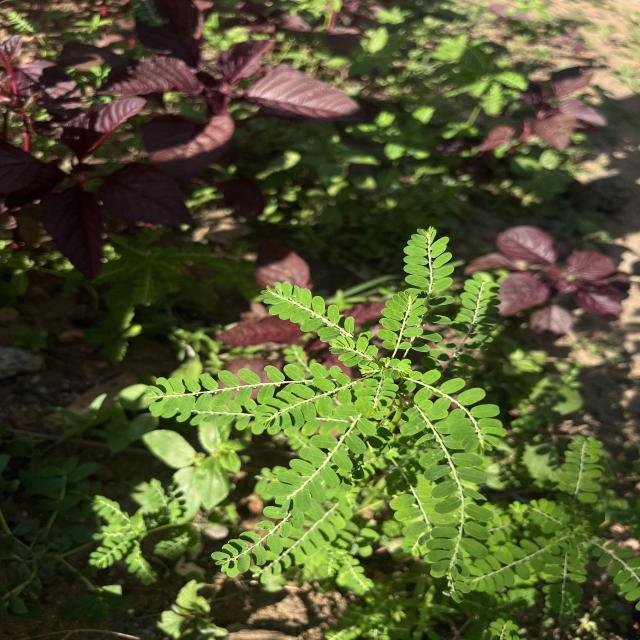Phyllanthus niruri: (144, 362, 326, 418), (421, 448, 496, 582), (403, 367, 508, 454), (266, 434, 368, 516), (252, 372, 350, 432), (256, 280, 356, 338), (211, 521, 294, 580), (402, 222, 454, 292), (373, 288, 429, 352), (352, 378, 401, 418)
